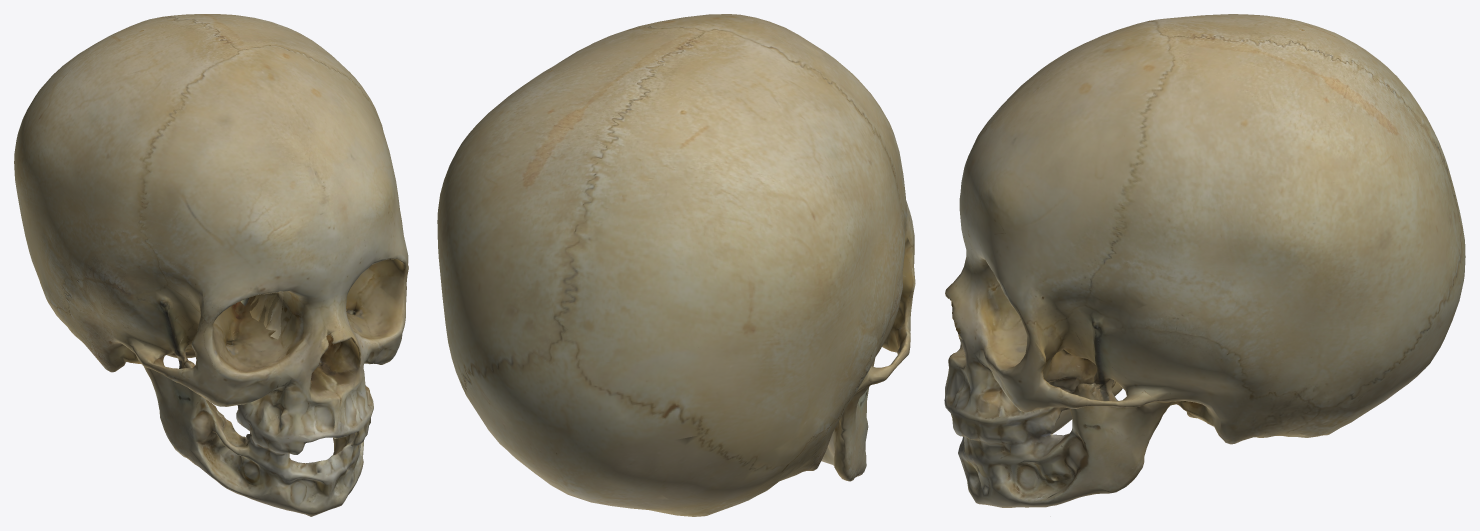
File: skull.obj
3 views of the same model, side by side, from view 1: azimuth 30°, elevation 25°; view 2: azimuth 150°, elevation 25°; view 3: azimuth 270°, elevation 25° (orthographic). The views are drawn at different scales.
Visible parts, largest first — view 1: Skull_teeth_low_Skull_teeth.006; view 2: Skull_teeth_low_Skull_teeth.006; view 3: Skull_teeth_low_Skull_teeth.006.
Part boxes in pixels (x1,y1,x2,y2): Skull_teeth_low_Skull_teeth.006: (14,14,408,516); Skull_teeth_low_Skull_teeth.006: (437,14,915,516); Skull_teeth_low_Skull_teeth.006: (944,14,1465,507).
Bounding box in the file's own units: 0.1131 × 0.1393 × 0.1427.
Materials: 1 (1 with a texture image).
